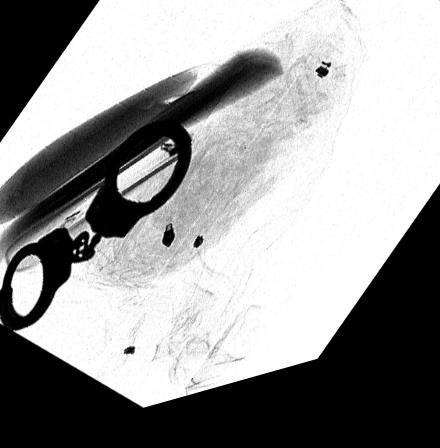HandCuffs: (0, 127, 192, 331)
